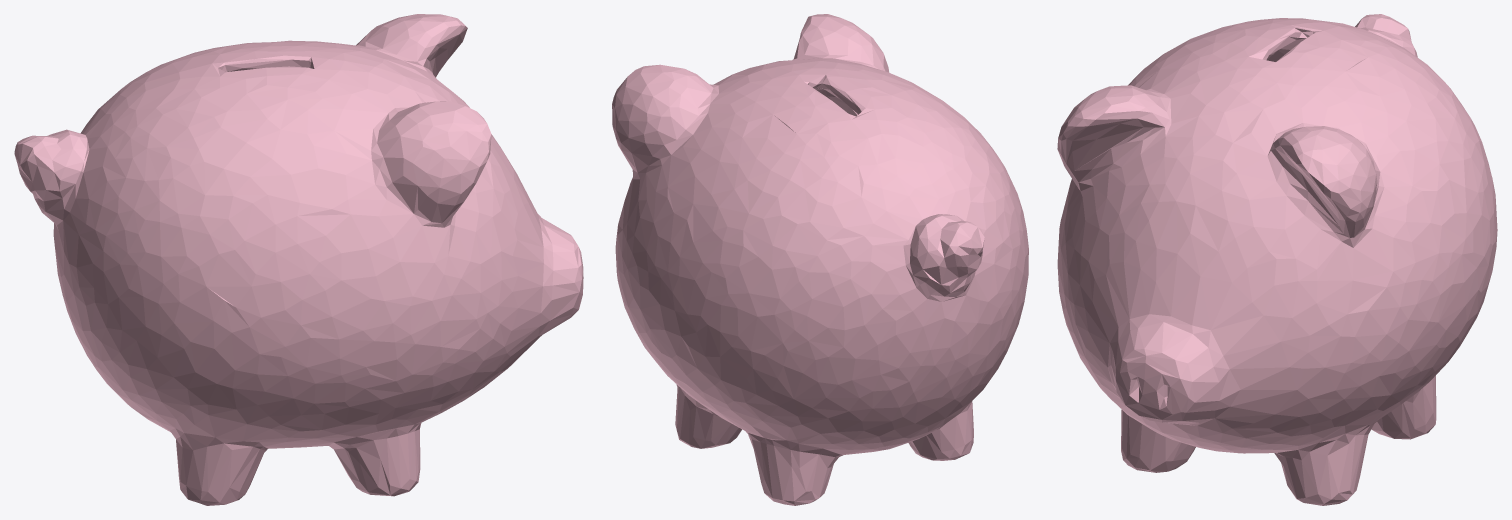
The model's file is d9cec1ef-48dc-4f56-8dea-80d9993a1488.glb.
3 renders of one model, left to right at view 1: azimuth 30°, elevation 25°; view 2: azimuth 150°, elevation 25°; view 3: azimuth 270°, elevation 25°, orthographic. The views are drawn at different scales.
Visible parts, largest first — view 1: Piggy.2; view 2: Piggy.2; view 3: Piggy.2.
Boxes of the visible parts, x1,y1,x2,y2 form: Piggy.2: [14, 14, 583, 505]; Piggy.2: [612, 14, 1028, 505]; Piggy.2: [1057, 14, 1497, 505].
Size of the model in its own units: 291 by 236 by 239.
